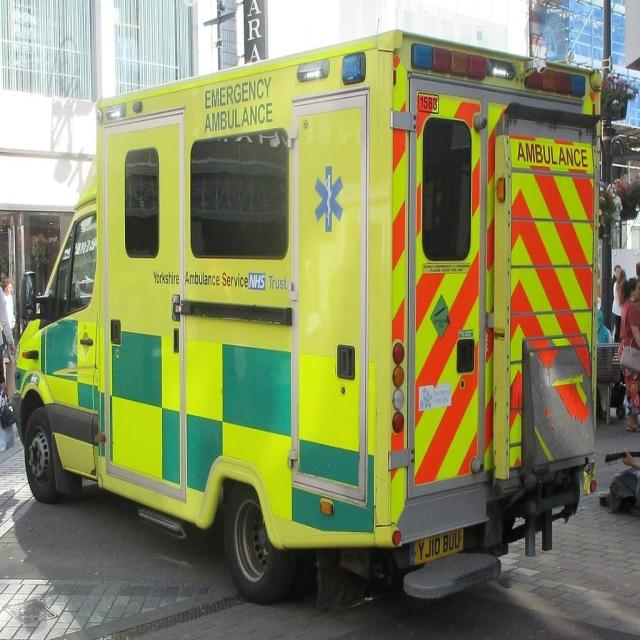ambulance: (13, 28, 603, 606)
